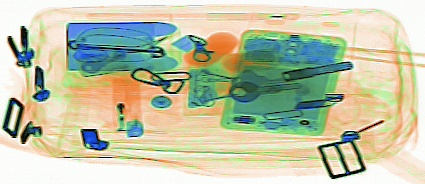lighter: (110, 69, 143, 138)
